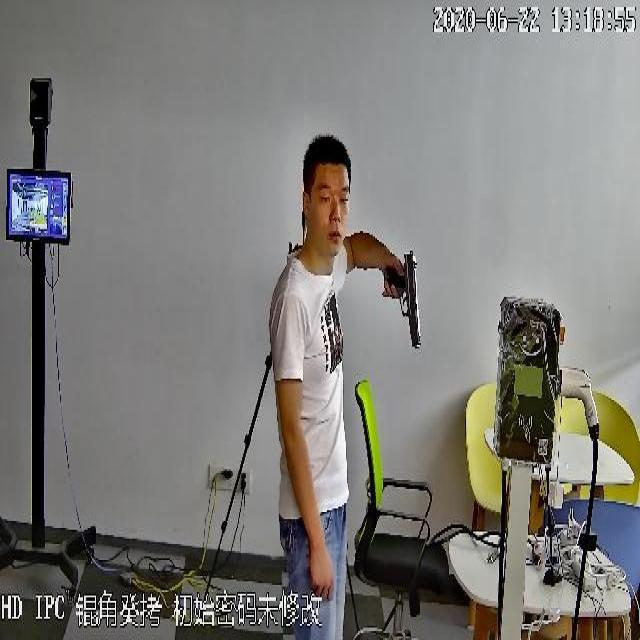pistol: (379, 252, 423, 352)
